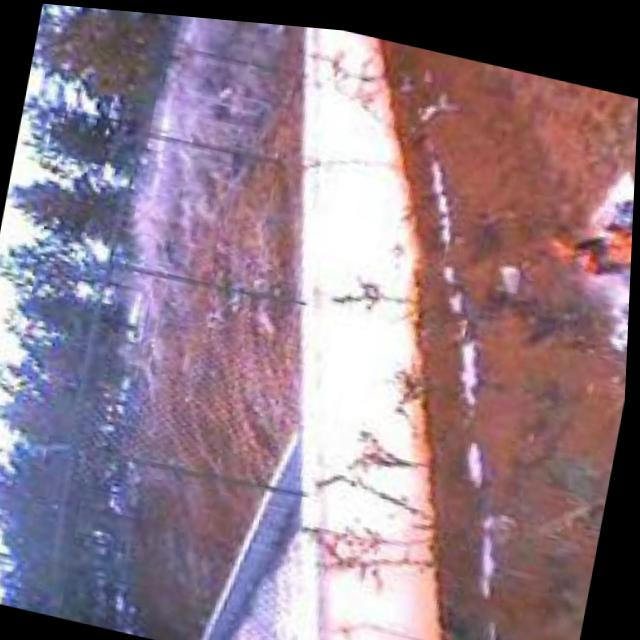Fire: (542, 175, 635, 283)
